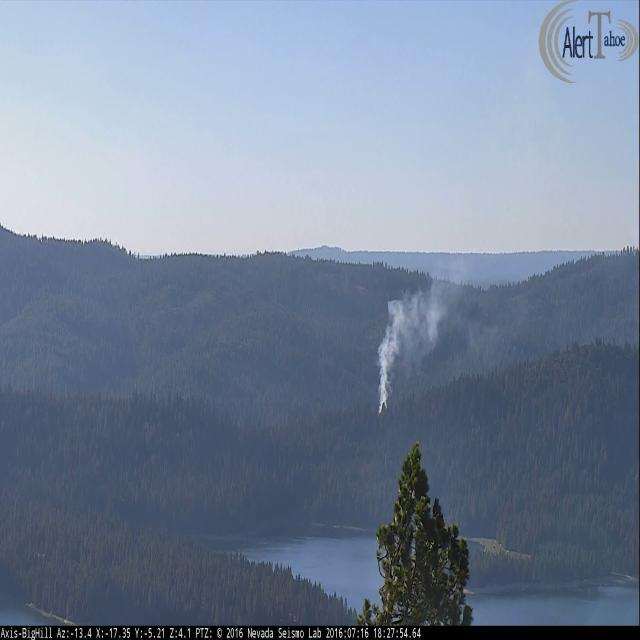smoke: (376, 277, 441, 414)
